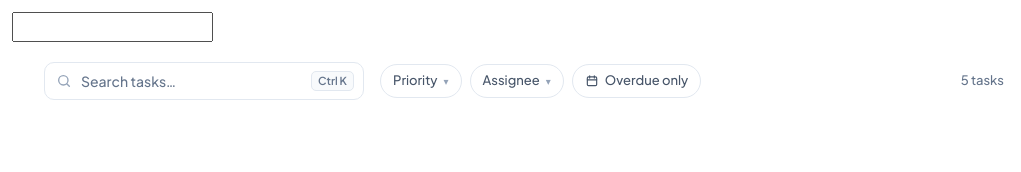
it: FilterBar › "Clear filters" resets search and filters, then hides itself
In the search field labelled "Search tasks…": (204, 81) [44, 62, 364, 100], type "design"
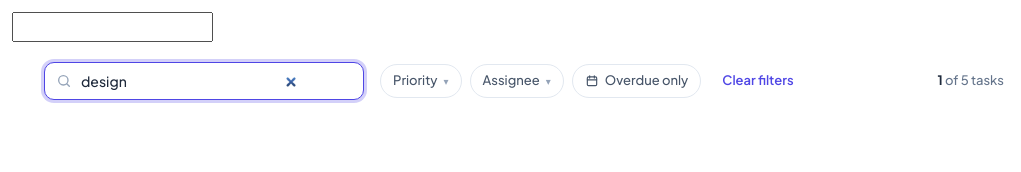
Click the button "Overdue only": (637, 81) [572, 64, 701, 98]
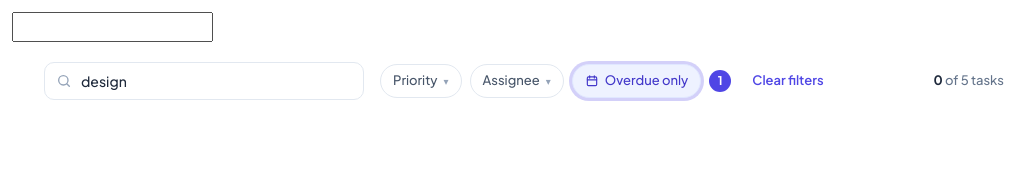
expect the button "Overdue only" is pressed: met, box [572, 64, 701, 98]
Click the button "Clear filters": (788, 81) [739, 64, 837, 98]
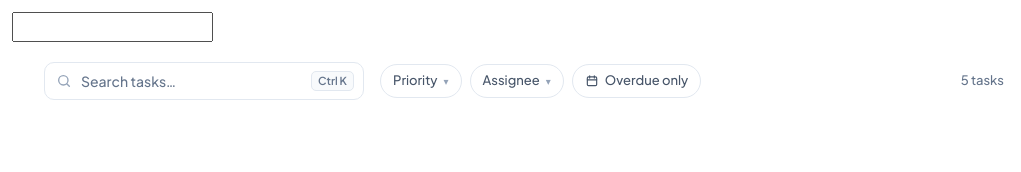
expect the text "5 tasks" is shown: met, box [961, 71, 1004, 91]
expect the search field labelled "Search tasks…" is empty: met, box [44, 62, 364, 100]
expect the button "Clear filters" is gone: met
